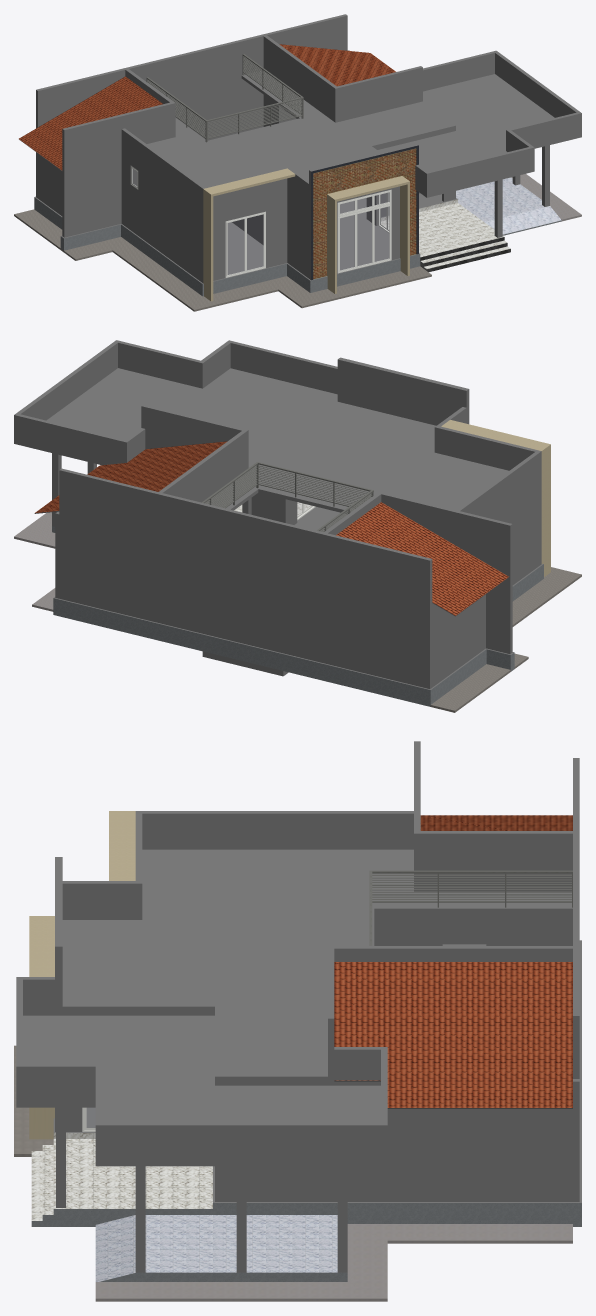
File: ARmodel.glb
3 renders of one model, top to bottom at view 1: azimuth 30°, elevation 25°; view 2: azimuth 150°, elevation 25°; view 3: azimuth 270°, elevation 25°, orthographic. The views are drawn at different scales.
Visible parts, largest first — view 1: object 1, object 2, object 14, object 9, 3ftramp (×2), object 15, object 17, object 12, object 16, object 13, object 18, object 11 (+5 smaller); view 2: object 1, object 2, object 9, object 14, object 17, object 15, 3ftramp (×2), object 16, object 13, object 18, object 19; view 3: object 1, object 2, object 16, object 9, object 14, 3ftramp (×2), object 15, object 22, object 10, object 17, object 12, object 13 (+6 smaller).
Part boxes in pixels (left/top/right/bottom): object 1: left=34, top=14, right=544, bottom=296; object 2: left=147, top=71, right=455, bottom=186; object 14: left=415, top=50, right=581, bottom=194; object 9: left=377, top=74, right=581, bottom=197; 3ftramp (×2): left=14, top=174, right=581, bottom=311; object 15: left=263, top=35, right=422, bottom=122; object 17: left=19, top=76, right=162, bottom=170; object 12: left=327, top=176, right=409, bottom=293; object 16: left=279, top=44, right=395, bottom=86; object 13: left=203, top=168, right=295, bottom=301; object 18: left=207, top=99, right=301, bottom=137; object 11: left=420, top=240, right=510, bottom=272; object 1: left=52, top=357, right=543, bottom=706; object 2: left=145, top=401, right=508, bottom=513; object 9: left=14, top=368, right=337, bottom=465; object 14: left=14, top=340, right=337, bottom=464; object 17: left=336, top=502, right=508, bottom=616; object 15: left=141, top=404, right=248, bottom=502; 3ftramp (×2): left=14, top=512, right=581, bottom=712; object 16: left=34, top=441, right=227, bottom=513; object 13: left=441, top=420, right=550, bottom=576; object 18: left=258, top=465, right=368, bottom=506; object 19: left=205, top=465, right=257, bottom=507; object 1: left=53, top=741, right=581, bottom=1281; object 2: left=62, top=849, right=572, bottom=1081; object 16: left=334, top=962, right=572, bottom=1108; object 9: left=16, top=1015, right=387, bottom=1166; object 14: left=16, top=977, right=387, bottom=1161; 3ftramp (×2): left=14, top=1045, right=572, bottom=1301; object 15: left=328, top=946, right=572, bottom=1076; object 22: left=372, top=874, right=571, bottom=899; object 10: left=95, top=1215, right=135, bottom=1281; object 17: left=420, top=815, right=572, bottom=830; object 12: left=29, top=916, right=54, bottom=1139; object 13: left=109, top=811, right=135, bottom=880.
Bounding box in the file's own units: 19.25 × 5.61 × 13.06.
Materials: 14 (12 with a texture image).
